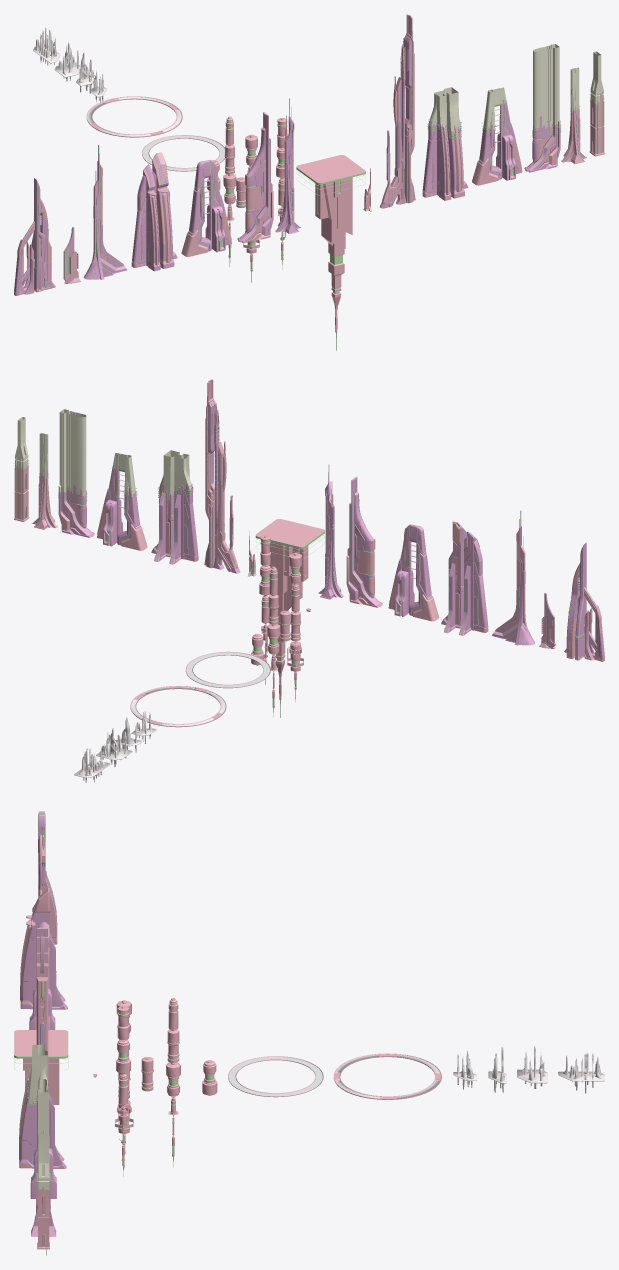
File: tron_iso_city.glb
The picture shows the model from 3 angles, top to bottom: view 1: azimuth 30°, elevation 25°; view 2: azimuth 150°, elevation 25°; view 3: azimuth 270°, elevation 25°; orthographic projection. The views are drawn at different scales.
Parts seen in each view (by area): view 1: Tower_08.smd, Tower_Construction_01.smd, Tower_04.smd, Tower_10.smd, Tower_Construction_03.smd, Tower_Construction_02.smd, Tower_05.smd, Tower_01.smd, Tower_06.smd, Tower_03.smd, Tower_Construction_05.smd, Tower_07.smd (+9 smaller); view 2: Tower_Construction_01.smd, Tower_10.smd, Tower_04.smd, Tower_Construction_03.smd, Tower_08.smd, Tower_05.smd, Tower_Construction_02.smd, Tower_01.smd, Tower_06.smd, Tower_03.smd, Building_Node_01.smd, Tower_Construction_05.smd (+9 smaller); view 3: Tower_Construction_01.smd, Tower_04.smd, Tower_08.smd, Tower_10.smd, Building_Node_02.smd, Tower_Construction_05.smd, Building_Node_03.smd, Road_Ring_02.smd, Road_Ring_01.smd, Tower_01.smd, Vista_Buildings_04.smd, Tower_Construction_03.smd (+2 smaller).
Boxes of the visible parts, x1,y1,x2,y2 form: Tower_08.smd: (296, 155, 365, 350); Tower_Construction_01.smd: (422, 87, 468, 200); Tower_04.smd: (131, 152, 177, 271); Tower_10.smd: (380, 14, 415, 208); Tower_Construction_03.smd: (524, 44, 561, 172); Tower_Construction_02.smd: (472, 87, 522, 185); Tower_05.smd: (181, 160, 231, 256); Tower_01.smd: (14, 178, 55, 295); Tower_06.smd: (237, 112, 273, 242); Tower_03.smd: (83, 144, 126, 279); Tower_Construction_05.smd: (589, 51, 604, 156); Tower_07.smd: (275, 98, 300, 233); Tower_Construction_01.smd: (151, 450, 198, 564); Tower_10.smd: (204, 379, 240, 573); Tower_04.smd: (441, 521, 488, 635); Tower_Construction_03.smd: (58, 409, 94, 537); Tower_08.smd: (255, 519, 324, 717); Tower_05.smd: (388, 524, 439, 621); Tower_Construction_02.smd: (97, 453, 147, 550); Tower_01.smd: (564, 542, 604, 661); Tower_06.smd: (346, 476, 382, 607); Tower_03.smd: (492, 510, 535, 645); Building_Node_01.smd: (287, 552, 303, 702); Tower_Construction_05.smd: (14, 417, 29, 521); Tower_Construction_01.smd: (19, 1044, 66, 1168); Tower_04.smd: (20, 888, 67, 1009); Tower_08.smd: (14, 1030, 68, 1255); Tower_10.smd: (36, 936, 48, 1086); Building_Node_02.smd: (116, 1006, 130, 1176); Tower_Construction_05.smd: (37, 1133, 49, 1249); Building_Node_03.smd: (166, 998, 180, 1167); Road_Ring_02.smd: (333, 1053, 441, 1099); Road_Ring_01.smd: (228, 1056, 323, 1097); Tower_01.smd: (38, 811, 57, 944); Vista_Buildings_04.smd: (558, 1053, 604, 1093); Tower_Construction_03.smd: (35, 1079, 50, 1217).
Bounding box in the file's own units: 608 × 315 × 471.
